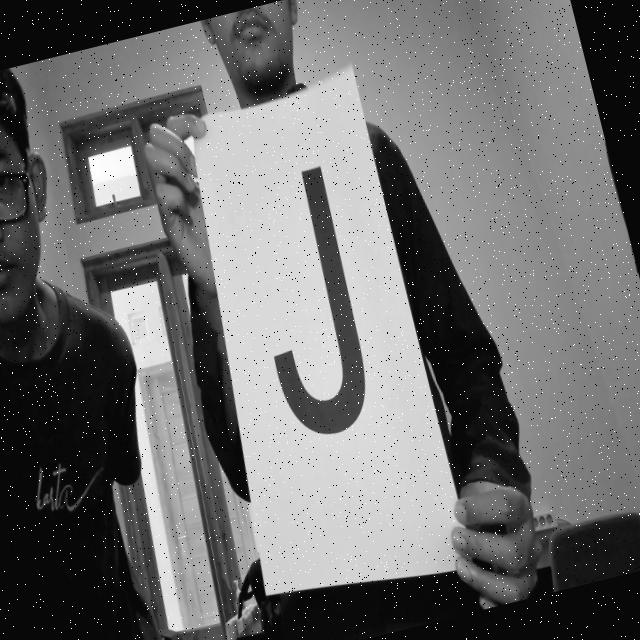j: (211, 146, 419, 492)
